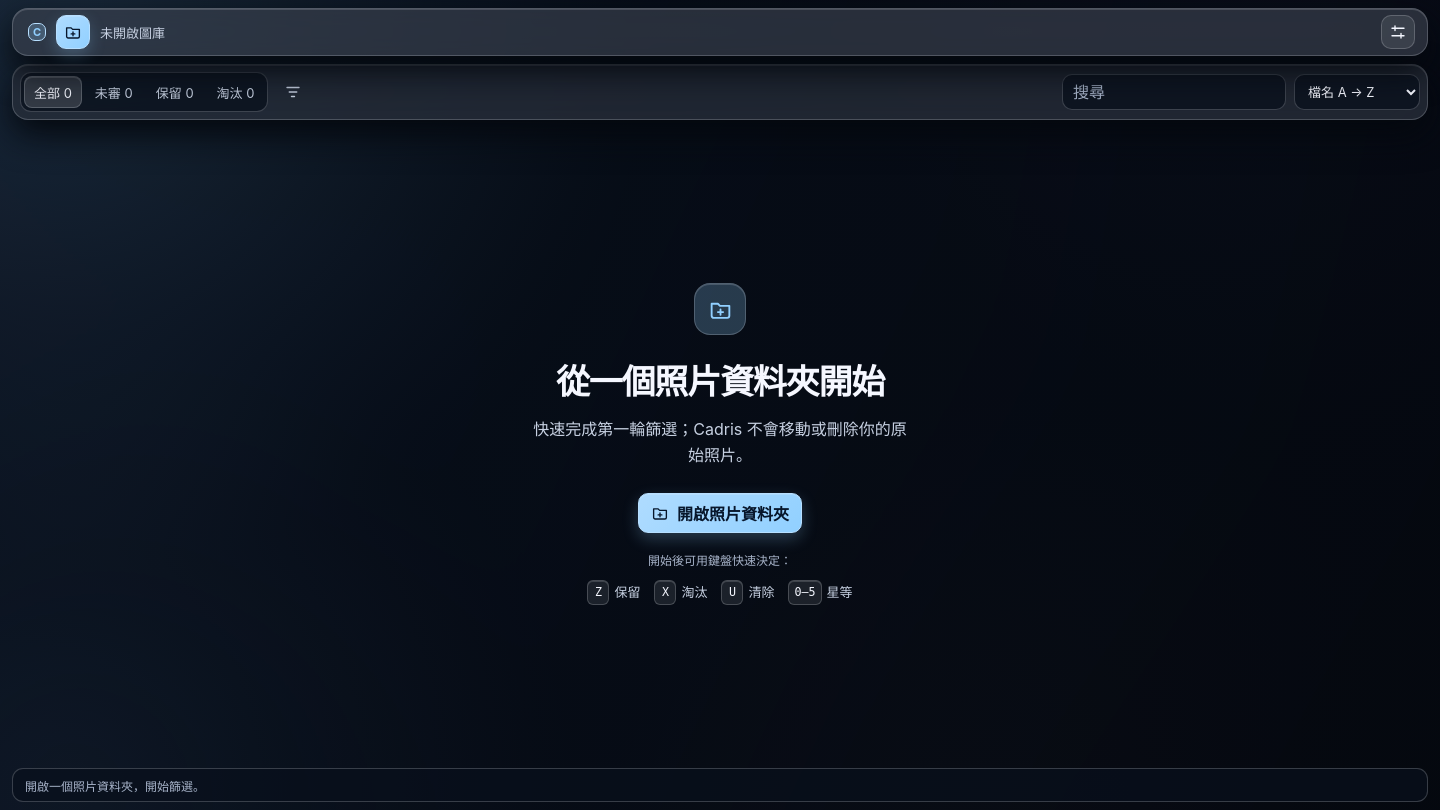
Test case: Cadris library workflow › keeps a failed batch write local-only and tells the user to retry
This screenshot has width=1440, height=810.
Step 1. Click the button "開啟照片資料夾" → (720,513), box [638, 493, 802, 533]
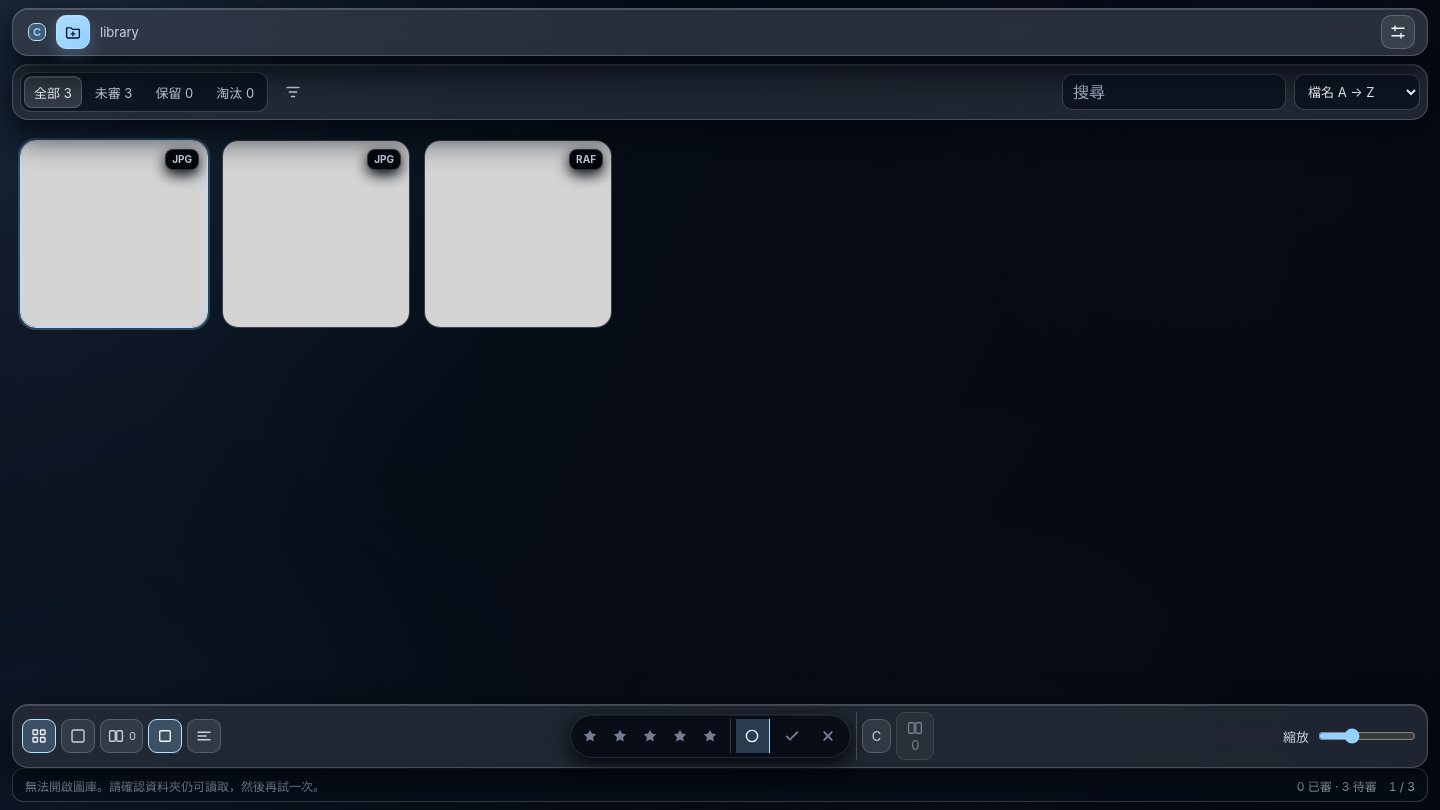
Step 2. Click the button named "保留" → (792,736), box [774, 719, 810, 753]
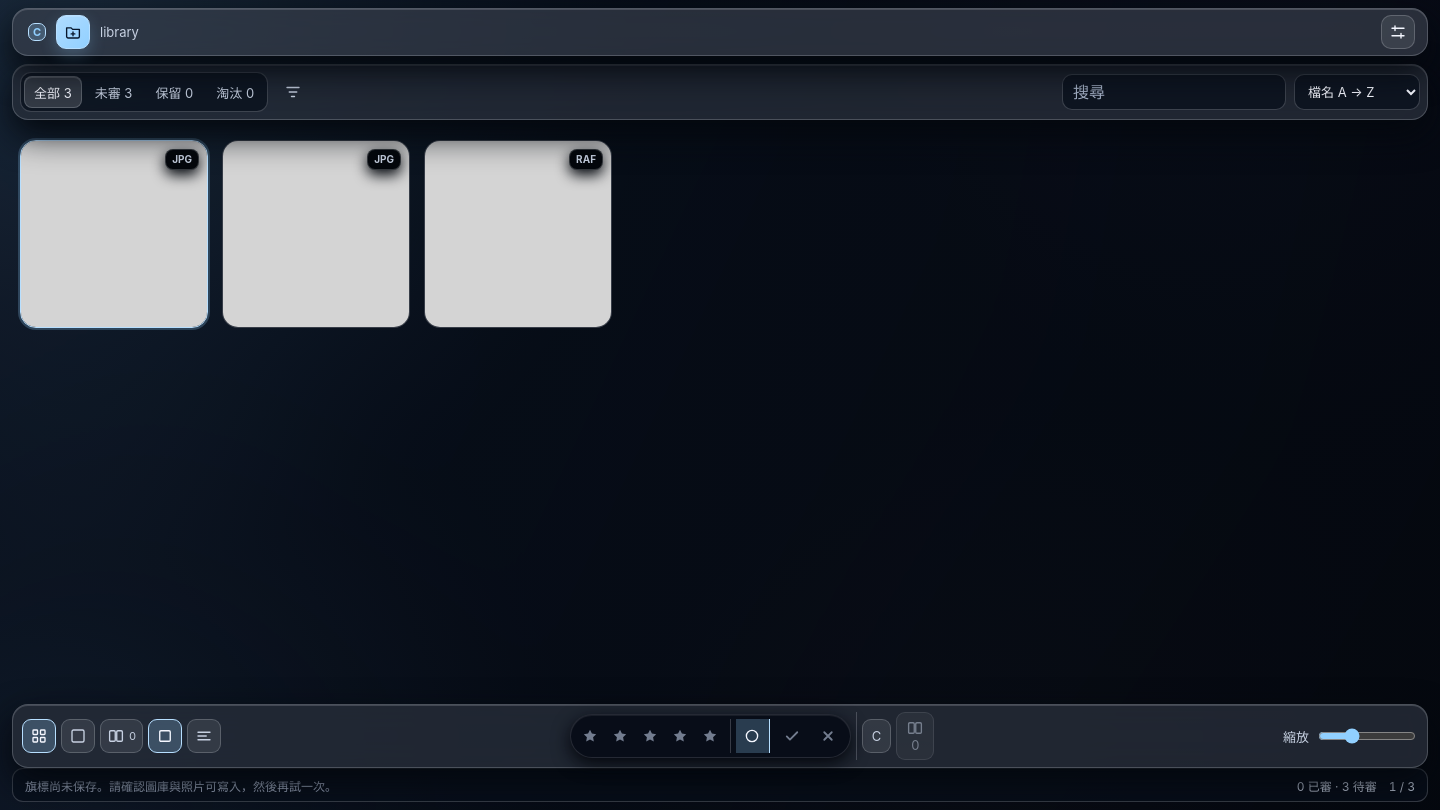
Result: the text "旗標尚未保存。請確認圖庫與照片可寫入，然後再試一次。" is shown at [25, 776, 337, 794]
